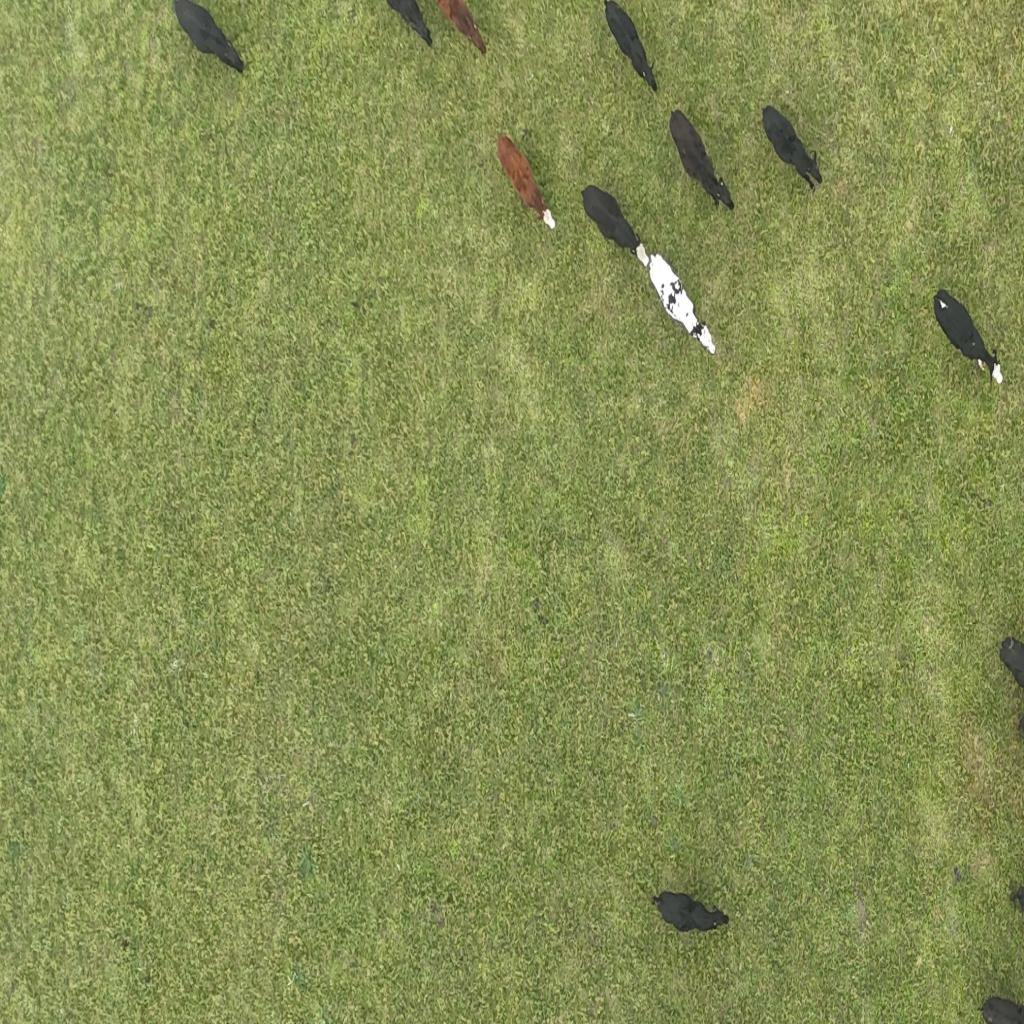cow: (648, 252, 718, 359), (667, 108, 735, 216), (934, 290, 1004, 386), (497, 128, 556, 232), (579, 182, 649, 268), (760, 105, 824, 194), (172, 0, 245, 77), (603, 0, 660, 94), (649, 887, 730, 941), (435, 0, 489, 60), (382, 2, 434, 48), (998, 635, 1024, 697), (977, 991, 1024, 1024), (1007, 881, 1024, 919)
